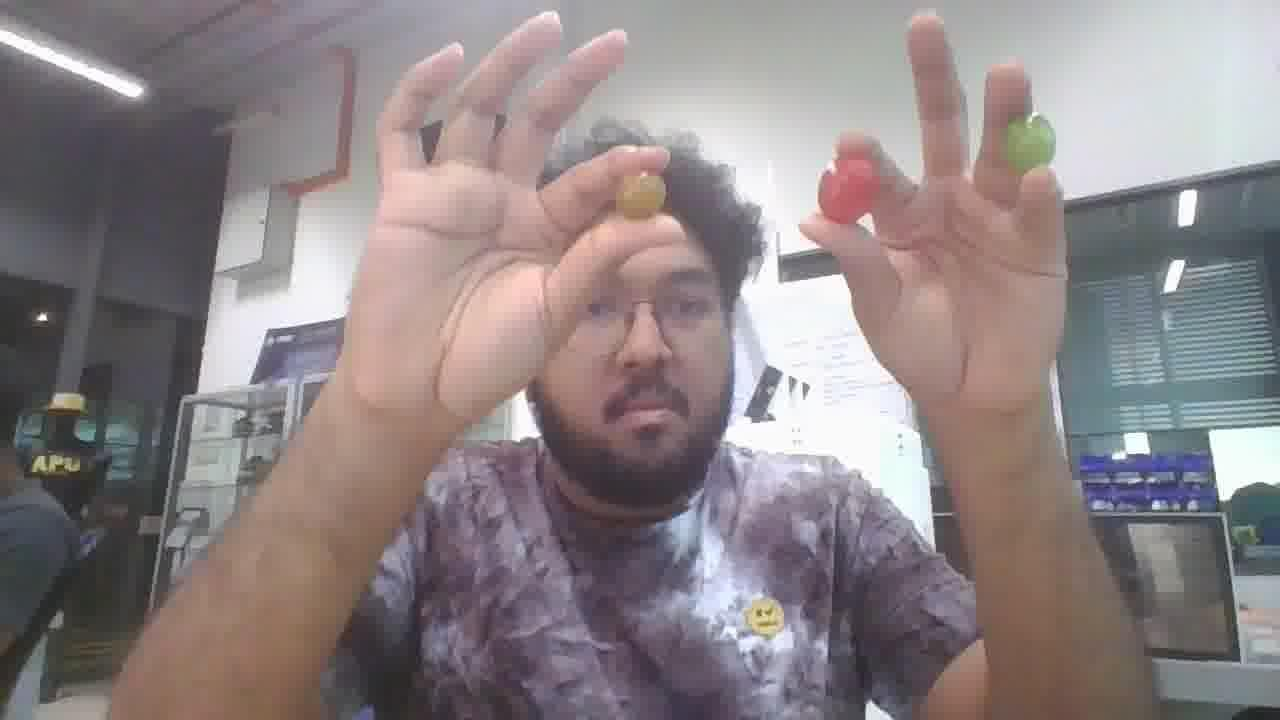green_cherry_tomato: (1005, 113, 1054, 173)
red_cherry_tomato: (818, 153, 879, 224)
yellow_cherry_tomato: (615, 173, 666, 219)
